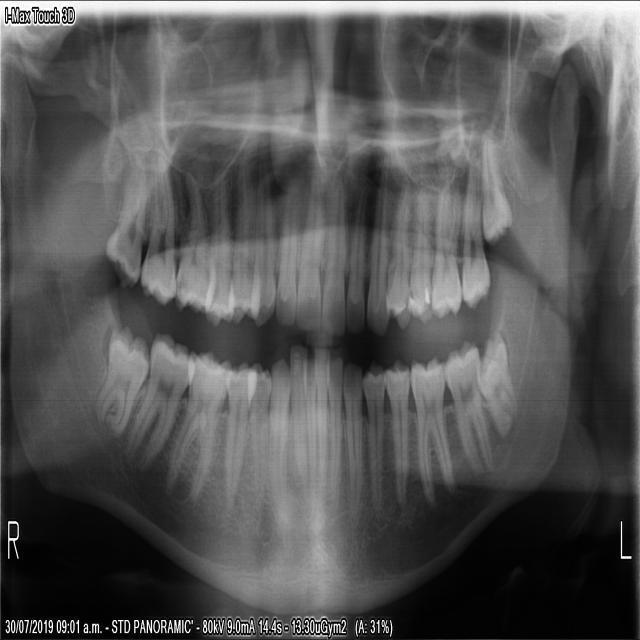LCD: (339, 352, 363, 526)
LCU: (363, 148, 394, 341)
LID: (323, 346, 345, 521), (312, 340, 330, 502)
LIU: (320, 170, 348, 342), (343, 171, 372, 337)
LMD: (440, 330, 495, 485), (406, 348, 456, 513), (471, 316, 521, 444)
LMU: (457, 146, 492, 311), (428, 176, 461, 323), (477, 124, 513, 254)
LPMD: (380, 349, 411, 513), (359, 357, 389, 523)
LPMU: (381, 163, 413, 335), (405, 172, 433, 330)
RCD: (264, 351, 292, 529)
RCU: (246, 157, 277, 331)
RID: (286, 336, 307, 508), (299, 352, 318, 495)
RIU: (292, 157, 324, 338), (272, 172, 302, 330)
RMD: (162, 342, 232, 510), (121, 322, 197, 476), (90, 313, 151, 448)
RMU: (100, 154, 152, 291), (136, 145, 177, 313), (172, 159, 214, 319)
RPMD: (219, 353, 257, 518), (243, 354, 271, 526)
RPMU: (224, 139, 261, 331), (201, 161, 234, 333)
